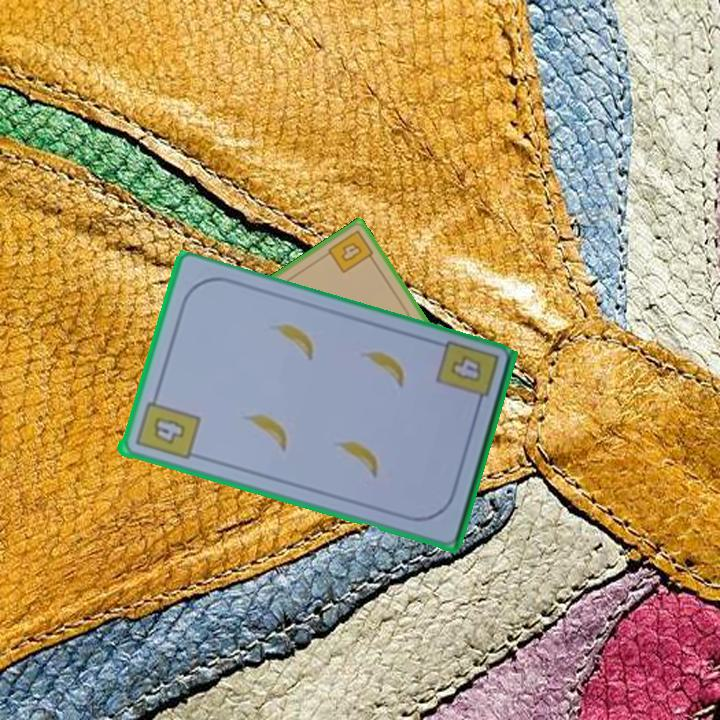4b: (131, 389, 202, 463), (324, 226, 378, 276), (446, 352, 485, 386)
